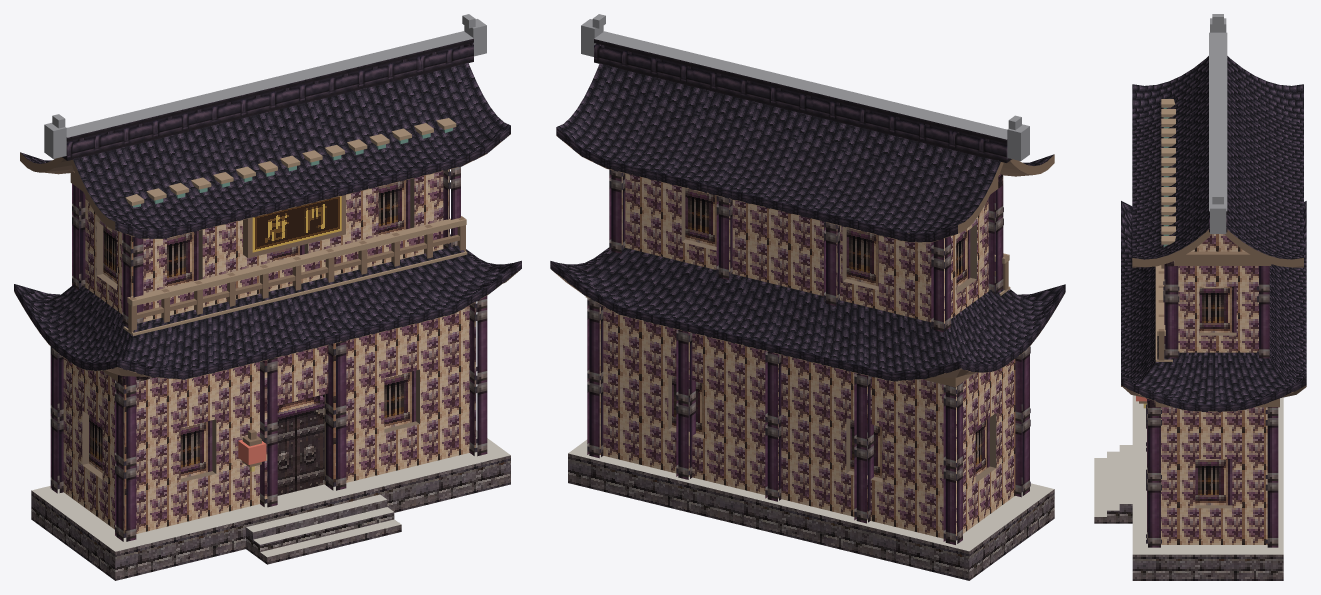
The model's file is g_dang_shop_green.glb.
The picture shows the model from 3 angles, left to right: view 1: azimuth 30°, elevation 25°; view 2: azimuth 150°, elevation 25°; view 3: azimuth 270°, elevation 25°; orthographic projection. The views are drawn at different scales.
Visible parts, largest first — view 1: roof, plaster, post, stone, stonetop, ridge, win, eave, woodl, wood, ridgeend, door (+3 smaller); view 2: plaster, roof, post, stone, ridge, eave, win, ridgeend, stonetop, reveal, wood, under; view 3: roof, plaster, stonetop, post, stone, ridgeend, win, wood, woodl, eave, reveal, under.
Part boxes in pixels (x1,y1,x2,y2): roof: (14,62,520,371); plaster: (63,170,475,533); post: (50,167,487,541); stone: (31,455,510,580); stonetop: (32,430,510,557); ridge: (62,38,473,160); win: (89,179,415,478); eave: (14,126,521,379); woodl: (123,118,467,335); wood: (20,152,465,467); ridgeend: (44,14,486,158); door: (277,394,324,495); plaster: (599,173,1015,538); roof: (551,63,1065,373); post: (587,169,1030,544); stone: (568,453,1054,580); ridge: (594,39,1011,162); eave: (550,127,1065,381); win: (672,188,989,478); ridgeend: (581,14,1029,161); stonetop: (568,439,1053,551); reveal: (668,187,996,482); wood: (556,135,1054,387); under: (553,136,1064,381); roof: (1121,56,1306,404); plaster: (1161,234,1267,544); stonetop: (1094,395,1283,554); post: (1146,264,1278,547); stone: (1094,504,1283,580); ridgeend: (1209,14,1227,233); win: (1195,286,1236,505); wood: (1132,229,1303,407); woodl: (1155,99,1175,362); eave: (1121,378,1306,411); reveal: (1195,332,1236,508); under: (1121,265,1306,411).
Size of the model in its own units: 77.8 by 73.93 by 36.68.
19 materials, 10 textured.
